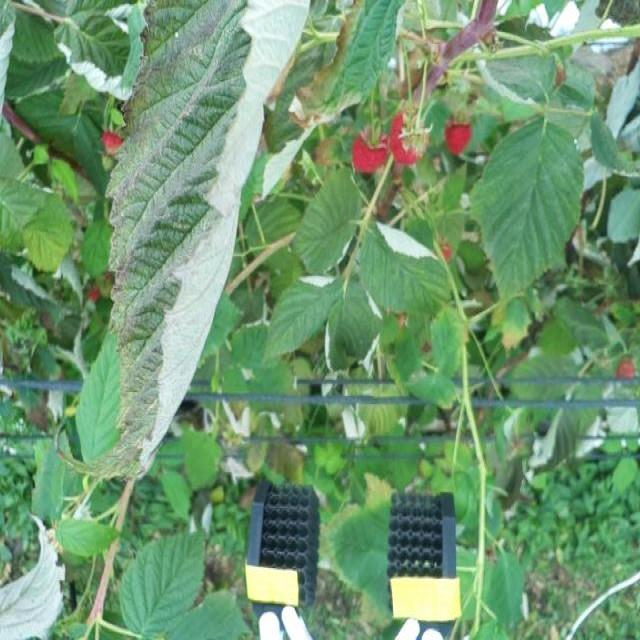Riped berries: (391, 102, 432, 162), (354, 121, 392, 175), (443, 111, 474, 159), (99, 118, 133, 155)
